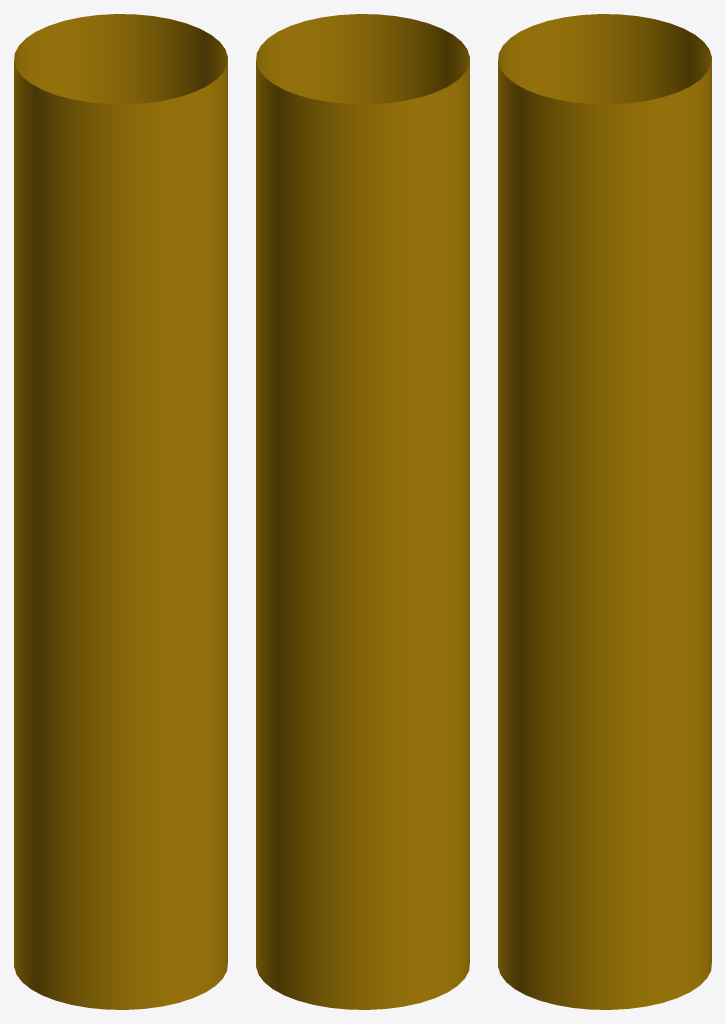
Rendered from original-36.obj.
The picture shows the model from 3 angles, left to right: view 1: azimuth 30°, elevation 25°; view 2: azimuth 150°, elevation 25°; view 3: azimuth 270°, elevation 25°; orthographic projection.
Visible parts, largest first — view 1: #ID158; view 2: #ID158; view 3: #ID158.
Part boxes in pixels (x1,y1,x2,y2): #ID158: (14, 14, 227, 1009); #ID158: (256, 14, 469, 1009); #ID158: (498, 14, 711, 1009).
Bounding box in the file's own units: 0.0464 × 0.2169 × 0.0464.
